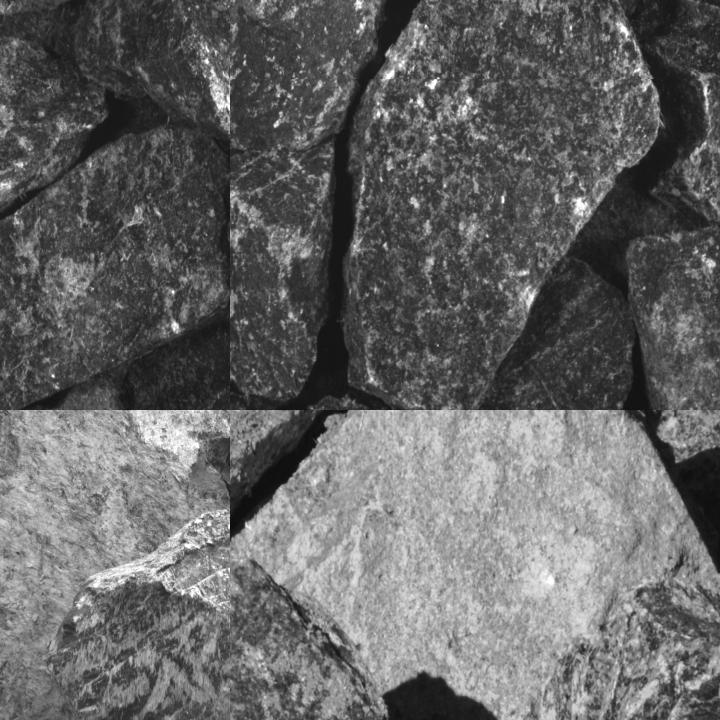stone: (230, 410, 719, 719), (342, 0, 662, 409), (0, 410, 229, 719), (0, 125, 229, 409), (230, 563, 584, 719), (50, 510, 229, 719), (230, 115, 337, 409), (431, 255, 635, 409), (0, 34, 109, 293), (230, 0, 416, 149), (501, 599, 703, 719), (75, 0, 229, 146), (626, 209, 719, 409), (646, 0, 719, 228), (187, 410, 229, 519)
